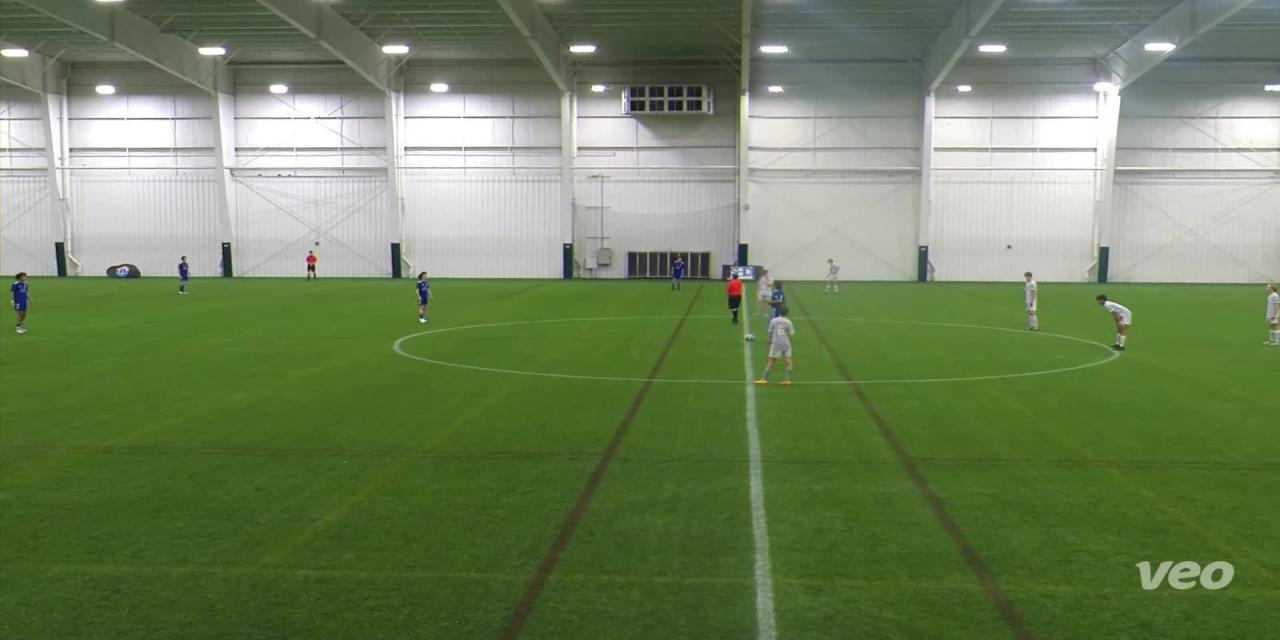sports ball: (740, 328, 756, 348)
